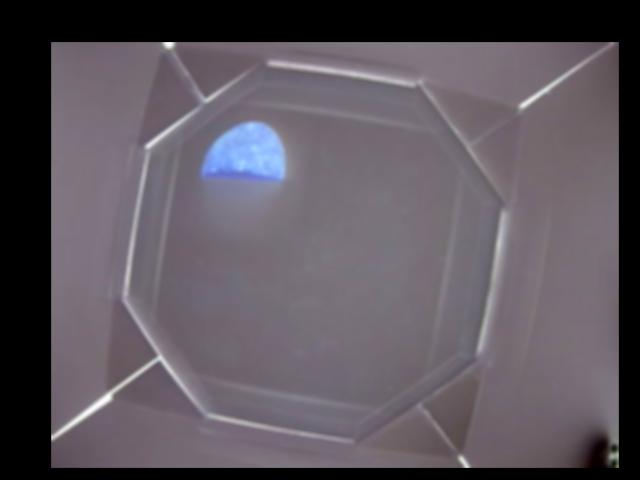Potato: (200, 121, 284, 183)
